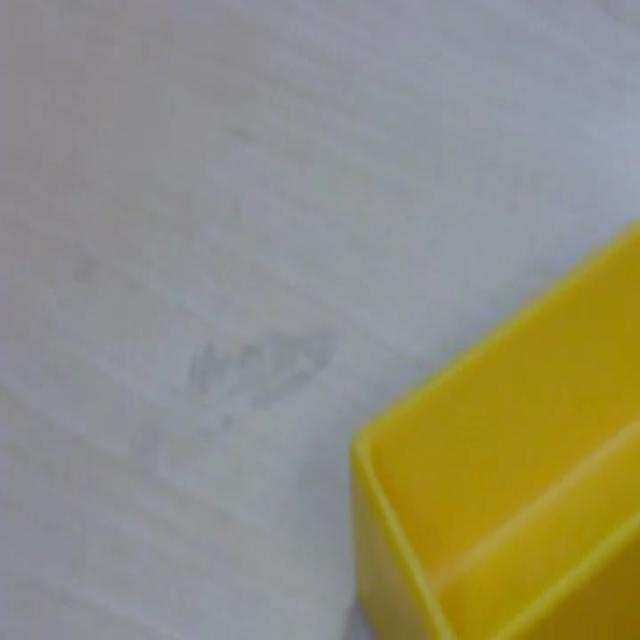yellow_block: (348, 215, 638, 637)
